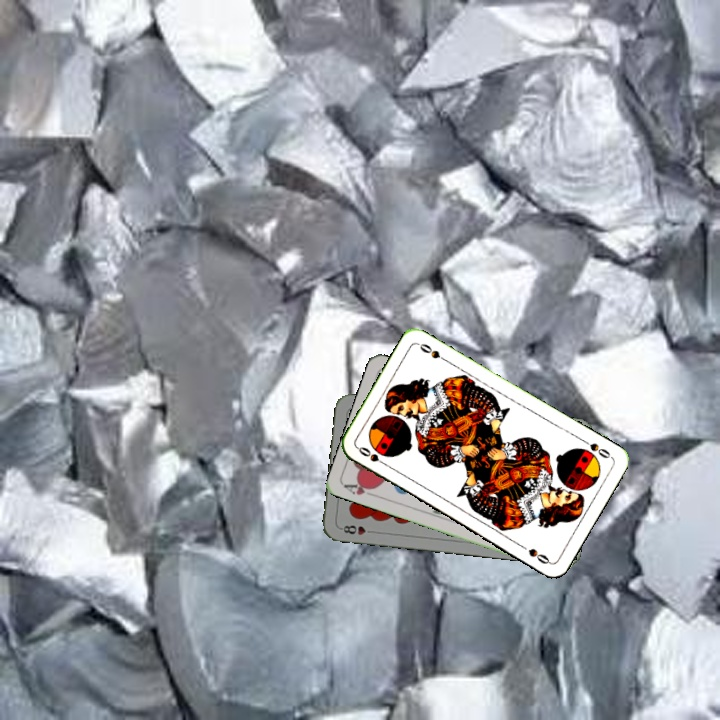H8: (337, 521, 377, 537)
HA: (340, 477, 380, 500)
SO: (354, 443, 391, 469), (577, 435, 614, 461)
